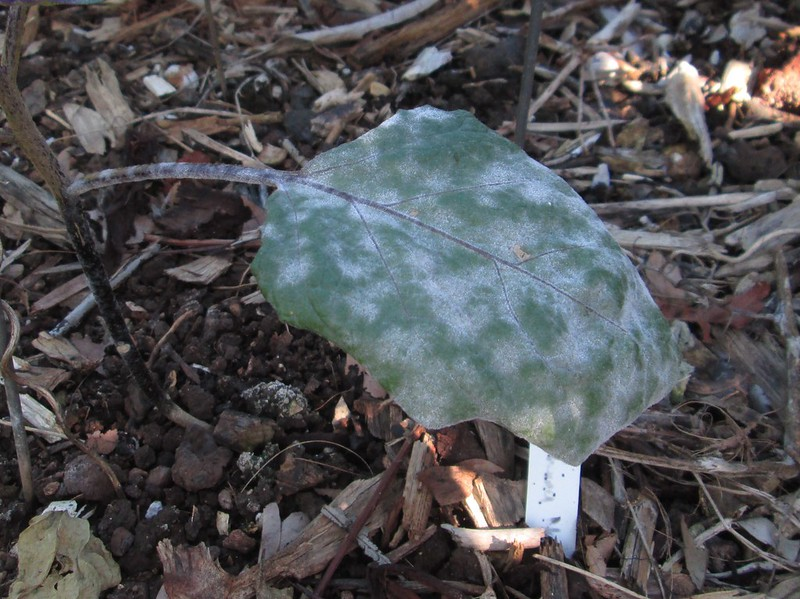Eggplant_PowderyMildew: (283, 117, 692, 462)
